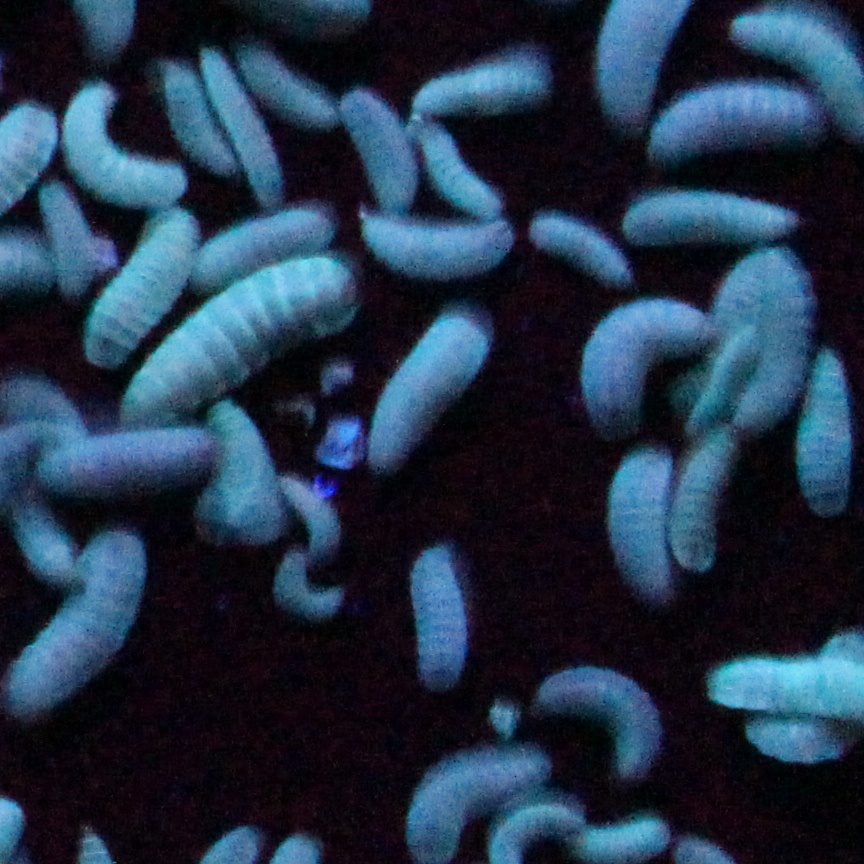larve: (127, 259, 359, 428), (10, 529, 150, 718), (368, 312, 490, 489), (581, 301, 716, 442), (84, 208, 201, 364), (58, 82, 185, 208), (199, 42, 282, 208), (650, 84, 821, 164), (195, 402, 285, 544), (542, 663, 657, 772), (28, 427, 217, 492), (195, 210, 335, 293), (619, 187, 799, 245), (406, 543, 477, 689), (333, 87, 416, 210), (793, 345, 850, 518), (362, 215, 516, 278), (610, 454, 673, 607), (238, 39, 341, 130), (672, 428, 738, 570), (413, 52, 552, 119), (164, 61, 239, 173), (528, 212, 635, 290), (416, 122, 504, 216), (38, 179, 98, 298), (273, 552, 348, 618), (577, 818, 675, 863), (284, 475, 342, 550)
